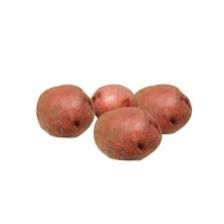Diseased-fungal potato: (92, 106, 164, 162), (127, 82, 193, 136), (35, 82, 96, 140), (89, 84, 137, 120)
